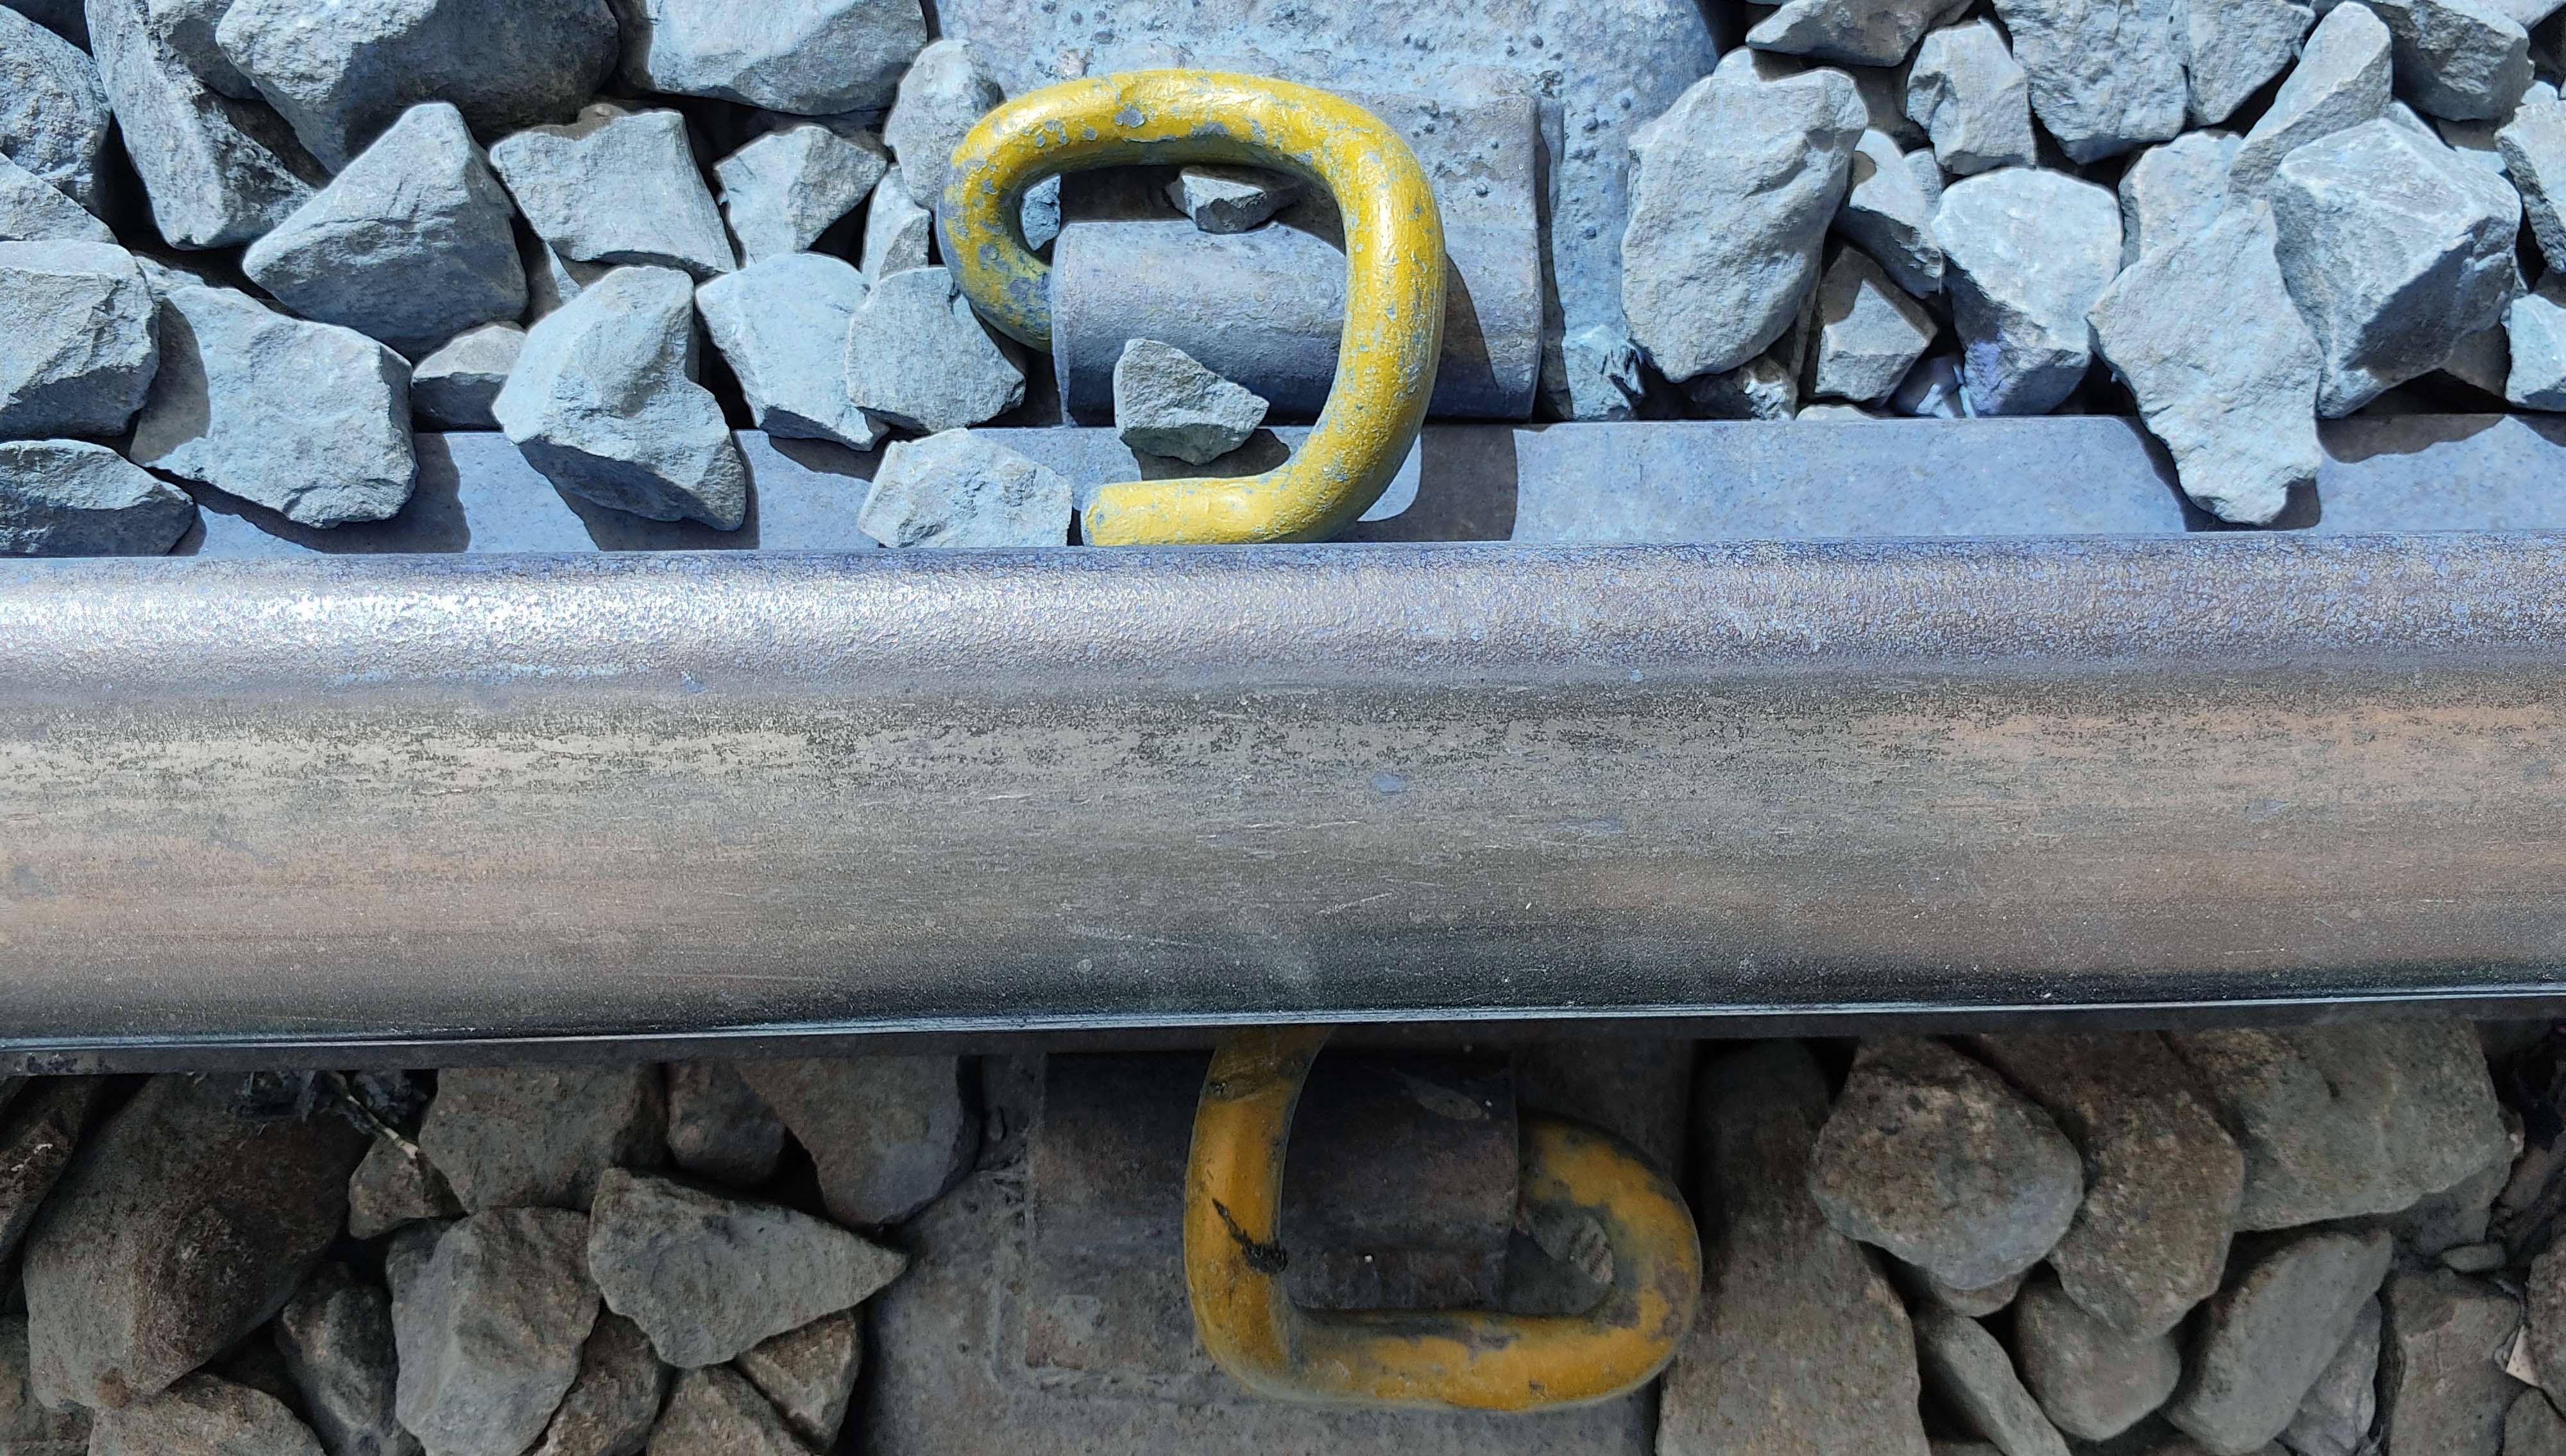error1: (909, 28, 1435, 603), (1126, 1021, 1747, 1449)
